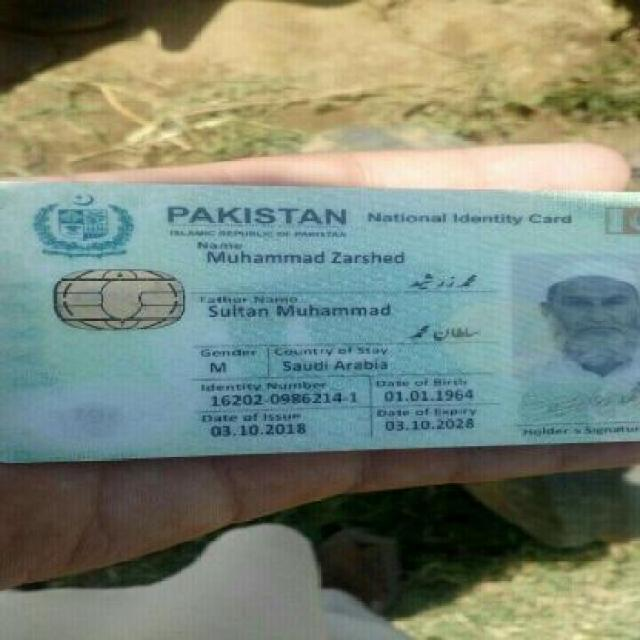Front: (3, 175, 634, 451)
